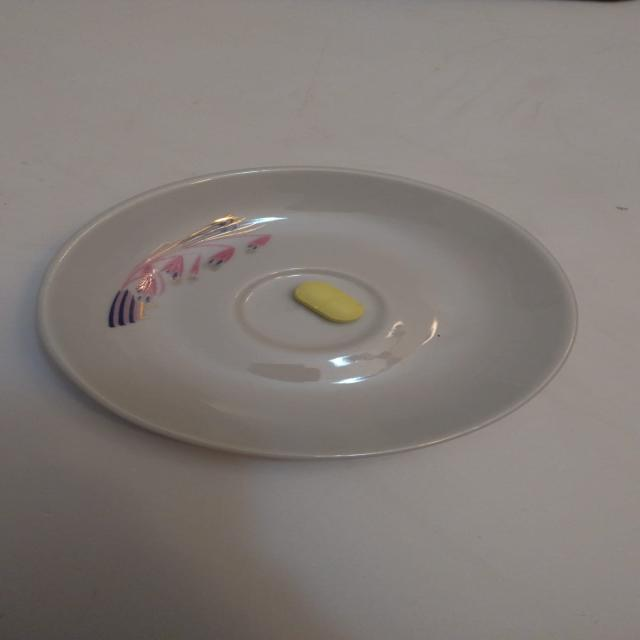pills: (266, 262, 384, 336)
